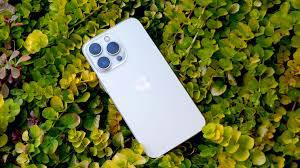Smartphone: (88, 25, 202, 160)
